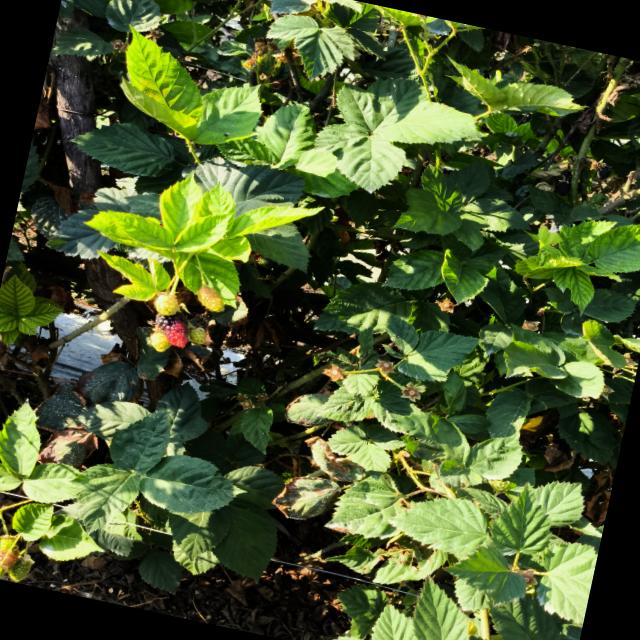marron: (155, 312, 188, 347)
verde: (196, 285, 224, 312), (8, 555, 33, 581), (154, 292, 178, 315), (149, 331, 170, 352), (188, 326, 206, 344)
